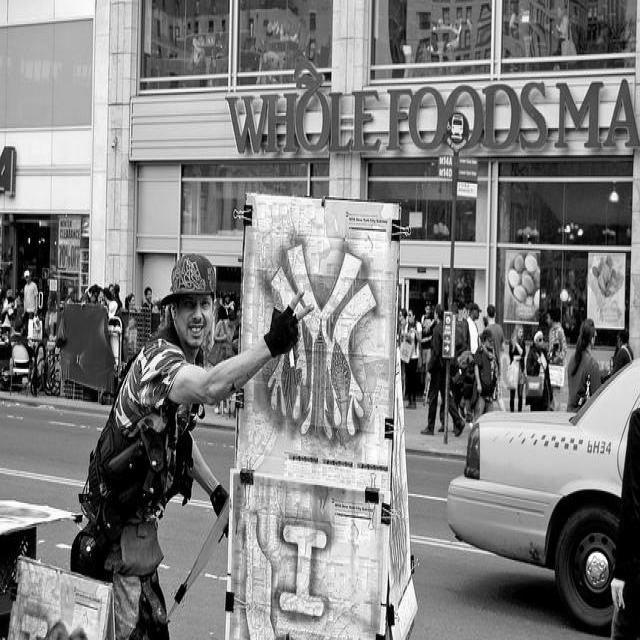vehicle: (445, 356, 640, 632)
